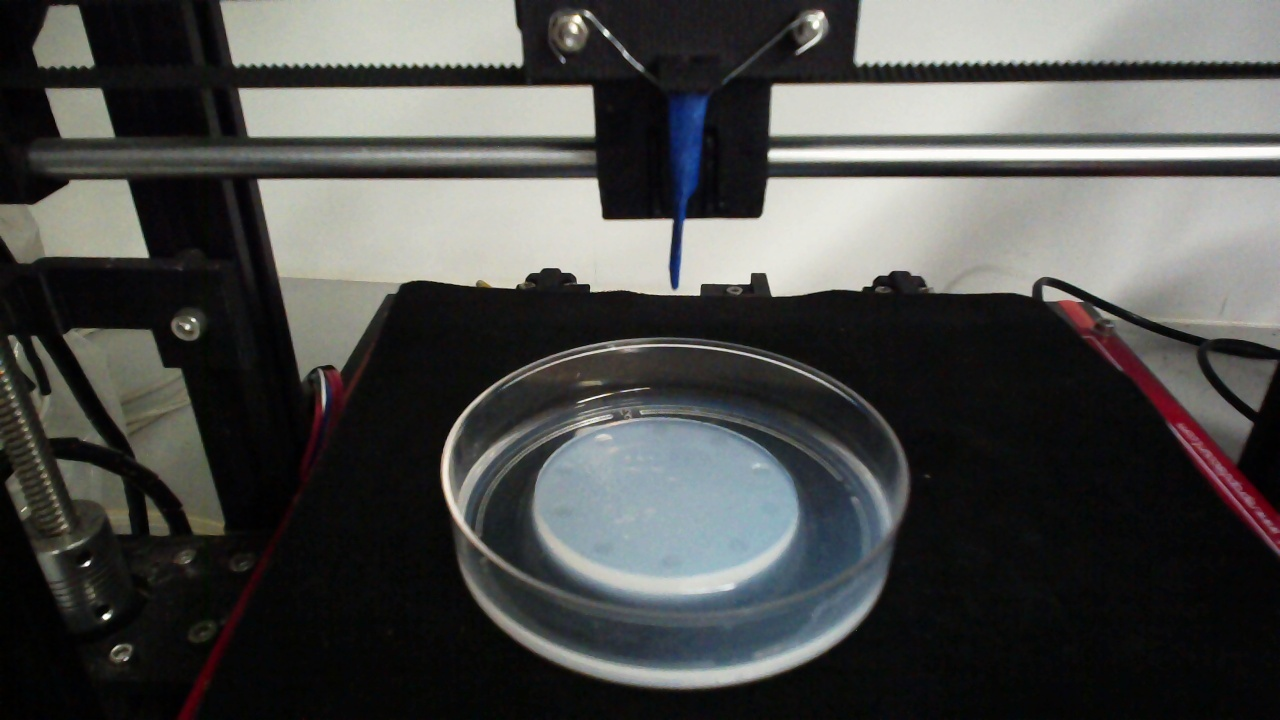groove: (727, 535, 753, 555), (551, 460, 576, 478), (590, 539, 615, 557), (659, 551, 684, 569), (760, 499, 783, 518), (551, 501, 574, 518), (749, 461, 771, 478), (594, 432, 615, 448), (706, 433, 729, 445), (648, 425, 671, 437)
needle: (669, 95, 707, 291)
